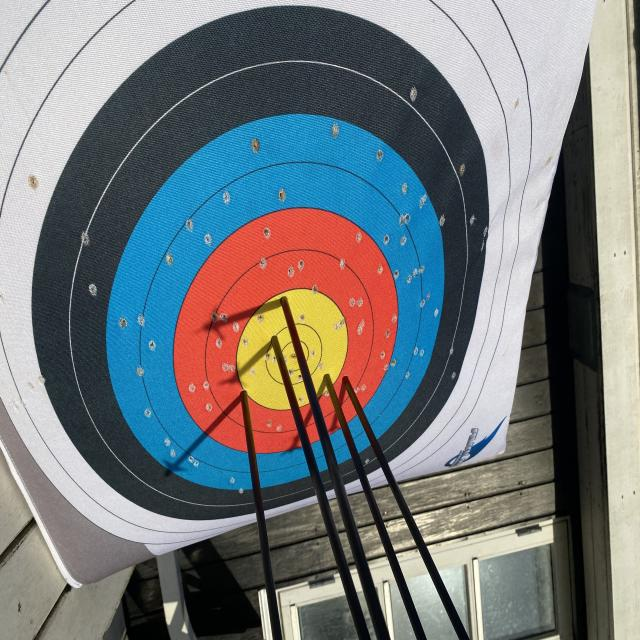Arrow_Red: (231, 378, 259, 420), (339, 365, 356, 402)
Arrow_Yellow: (278, 282, 296, 322), (266, 324, 285, 360), (317, 365, 337, 397)
